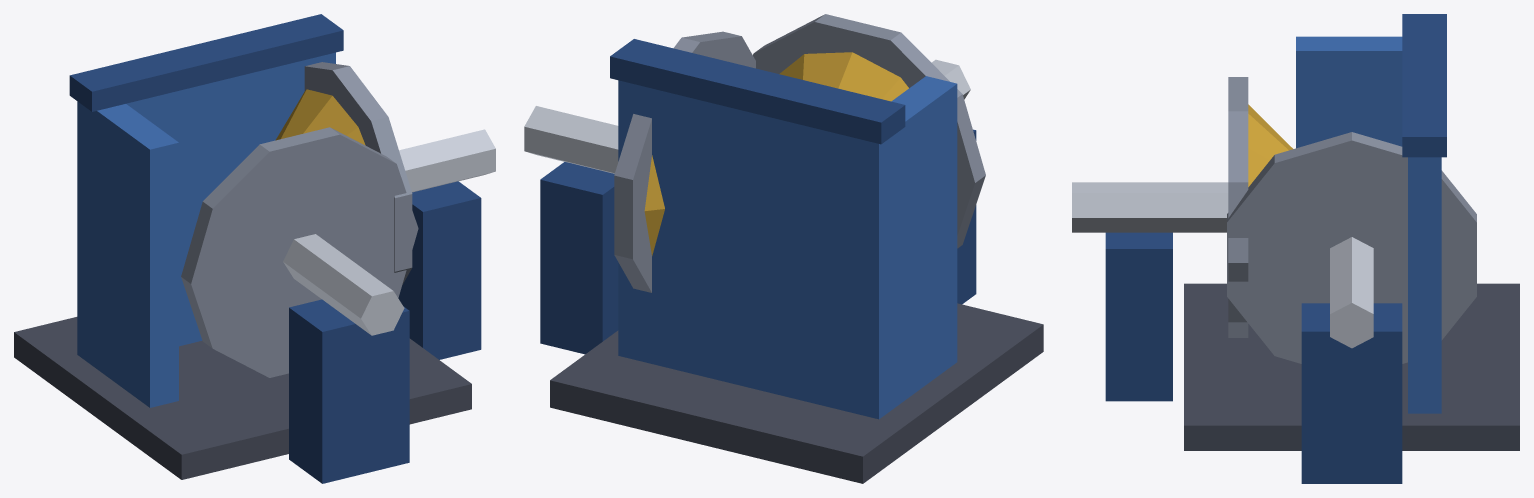
The model's file is bevel.glb.
3 views of the same model, side by side, from view 1: azimuth 30°, elevation 25°; view 2: azimuth 150°, elevation 25°; view 3: azimuth 270°, elevation 25° (orthographic). The views are drawn at different scales.
Visible parts, largest first — view 1: bevel, spin-y, spin-x; view 2: bevel, spin-y, spin-x; view 3: bevel, spin-x, spin-y.
Boxes of the visible parts, left/top/right/bottom form: bevel: left=14, top=14, right=481, bottom=483; spin-y: left=181, top=127, right=418, bottom=377; spin-x: left=275, top=62, right=495, bottom=284; bevel: left=540, top=39, right=1043, bottom=483; spin-y: left=753, top=14, right=985, bottom=248; spin-x: left=524, top=31, right=755, bottom=292; bevel: left=1105, top=14, right=1519, bottom=483; spin-x: left=1227, top=132, right=1476, bottom=363; spin-y: left=1072, top=77, right=1293, bottom=337.
Size of the model in its own units: 0.8 by 0.6 by 0.8.
Materials: 3 (3 with a texture image).
